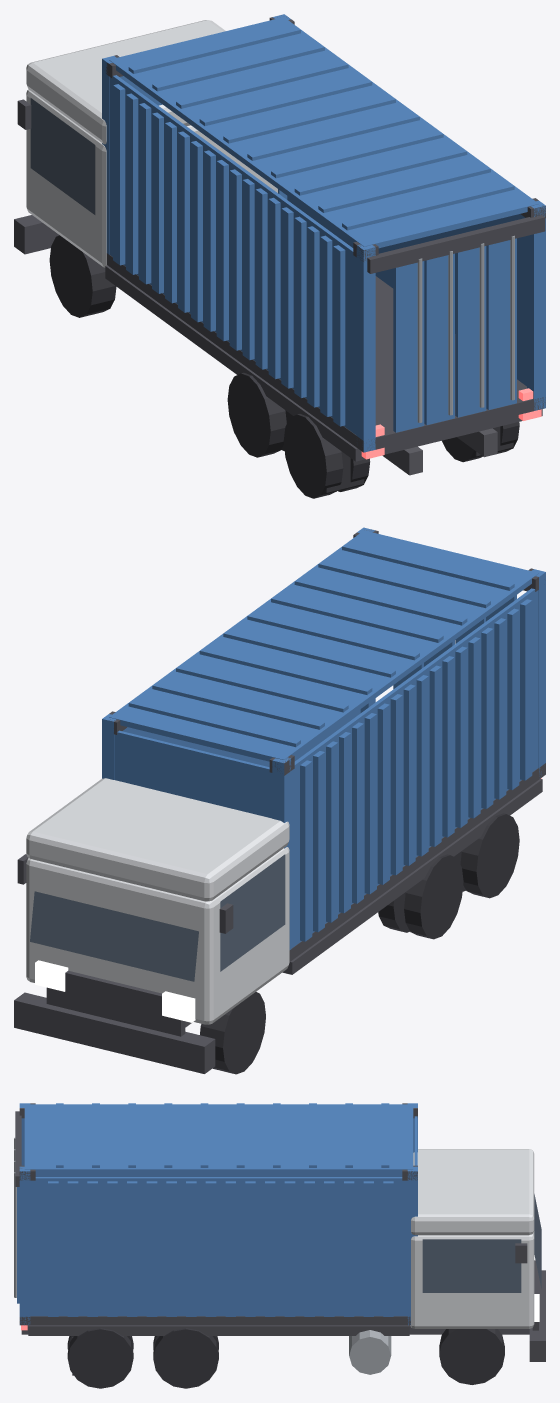
The model's file is bt-d2-truck.glb.
The picture shows the model from 3 angles, top to bottom: view 1: azimuth 30°, elevation 25°; view 2: azimuth 150°, elevation 25°; view 3: azimuth 270°, elevation 25°; orthographic projection. The views are drawn at different scales.
Parts seen in each view (by area): view 1: bt-d2-truck_box_roof, bt-d2-truck_box_side-1, bt-d2-truck_box_floor, bt-d2-truck_cabtop, bt-d2-truck_cab, bt-d2-truck_cabwin-1, bt-d2-truck_box_door2, bt-d2-truck_box_door0, bt-d2-truck_bed, bt-d2-truck_box_door1, bt-d2-truck_box_door3, bt-d2-truck_box_post-11 (+42 smaller); view 2: bt-d2-truck_box_roof, bt-d2-truck_cabtop, bt-d2-truck_cab, bt-d2-truck_box_side-1, bt-d2-truck_shield, bt-d2-truck_box_front, bt-d2-truck_bumper, bt-d2-truck_grille, bt-d2-truck_cabwin-1, bt-d2-truck_wr-1_1.6_-0.18, bt-d2-truck_wr-1_2.9_-0.18, bt-d2-truck_bed (+37 smaller); view 3: bt-d2-truck_box_side1, bt-d2-truck_box_roof, bt-d2-truck_cabtop, bt-d2-truck_cab, bt-d2-truck_cabwin1, bt-d2-truck_box_floor, bt-d2-truck_bed, bt-d2-truck_wr1_2.9_0.18, bt-d2-truck_wr1_1.6_0.18, bt-d2-truck_wf1, bt-d2-truck_box_post11, bt-d2-truck_box_rib1_5 (+35 smaller).
Boxes of the visible parts, x1,y1,x2,y2 form: bt-d2-truck_box_roof: [109, 17, 538, 248]; bt-d2-truck_box_side-1: [109, 75, 356, 435]; bt-d2-truck_box_floor: [106, 253, 545, 452]; bt-d2-truck_cabtop: [26, 20, 225, 144]; bt-d2-truck_cab: [26, 89, 277, 267]; bt-d2-truck_cabwin-1: [30, 98, 95, 214]; bt-d2-truck_box_door2: [455, 246, 486, 417]; bt-d2-truck_box_door0: [393, 261, 424, 432]; bt-d2-truck_bed: [105, 265, 542, 461]; bt-d2-truck_box_door1: [424, 253, 454, 425]; bt-d2-truck_box_door3: [486, 238, 516, 409]; bt-d2-truck_box_post-11: [356, 244, 375, 452]; bt-d2-truck_box_roof: [109, 530, 538, 761]; bt-d2-truck_cabtop: [26, 778, 289, 901]; bt-d2-truck_cab: [26, 847, 289, 1024]; bt-d2-truck_box_side-1: [291, 588, 538, 948]; bt-d2-truck_shield: [30, 891, 198, 981]; bt-d2-truck_box_front: [114, 730, 272, 818]; bt-d2-truck_bumper: [14, 992, 215, 1073]; bt-d2-truck_grille: [46, 970, 185, 1036]; bt-d2-truck_cabwin-1: [220, 854, 285, 971]; bt-d2-truck_wr-1_1.6_-0.18: [404, 854, 463, 939]; bt-d2-truck_wr-1_2.9_-0.18: [460, 813, 519, 898]; bt-d2-truck_bed: [282, 778, 542, 974]; bt-d2-truck_box_side1: [30, 1177, 407, 1316]; bt-d2-truck_box_roof: [24, 1104, 413, 1173]; bt-d2-truck_cabtop: [411, 1149, 534, 1235]; bt-d2-truck_cab: [410, 1231, 534, 1328]; bt-d2-truck_cabwin1: [422, 1239, 521, 1292]; bt-d2-truck_box_floor: [19, 1316, 410, 1325]; bt-d2-truck_bed: [28, 1325, 409, 1335]; bt-d2-truck_wr1_2.9_0.18: [67, 1328, 133, 1388]; bt-d2-truck_wr1_1.6_0.18: [153, 1328, 218, 1388]; bt-d2-truck_wf1: [439, 1329, 504, 1384]; bt-d2-truck_box_post11: [19, 1166, 30, 1325]; bt-d2-truck_box_rib1_5: [284, 1181, 295, 1316].
Size of the model in its own units: 2.89 by 3.67 by 8.09.
